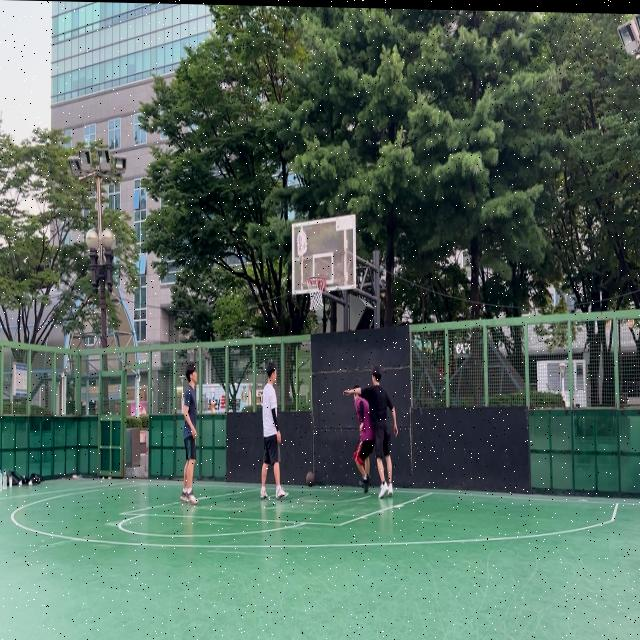basketball: (306, 471, 315, 488)
hoop: (306, 276, 326, 312)
